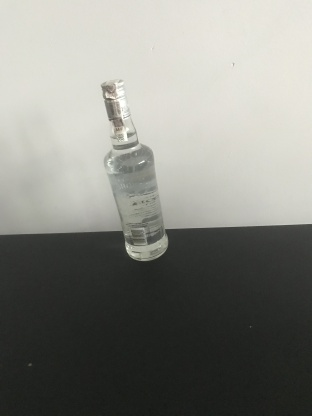nakretka: (99, 77, 131, 122)
